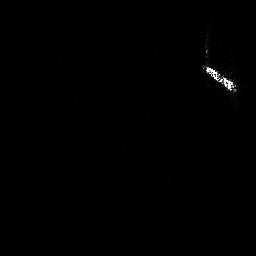ship: (198, 59, 240, 96)
